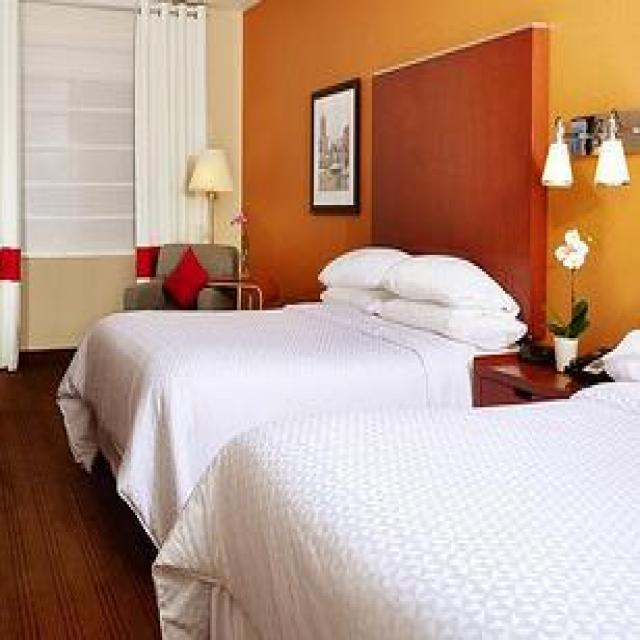bed: (150, 327, 638, 637)
